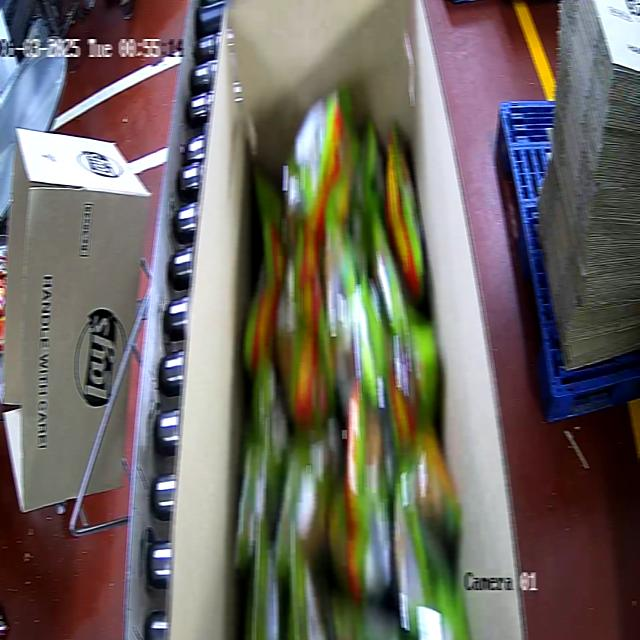YOGURT_HERB: (234, 85, 469, 638)
